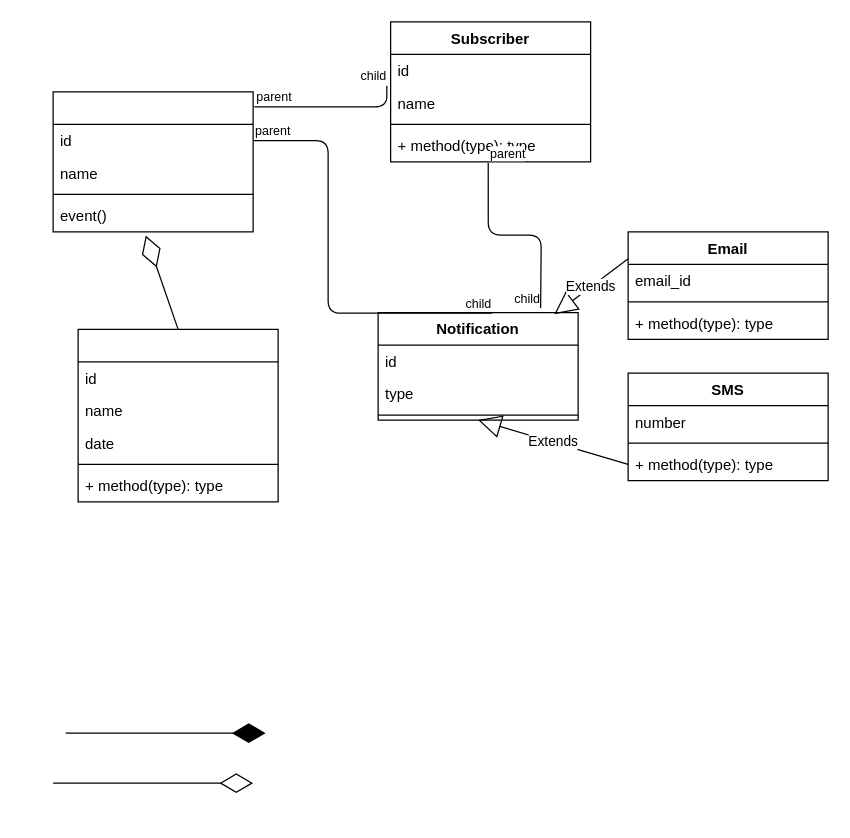
The diagram is 850 pixels wide and 838 high, and some of its shapes have lost their labels. The shapes that lost their labels are listed below. From the top down, each one's box as (x1, y1, x2, y2) in pixels, then its label:
(52, 91, 253, 232): Publisher
(77, 328, 278, 502): Event
